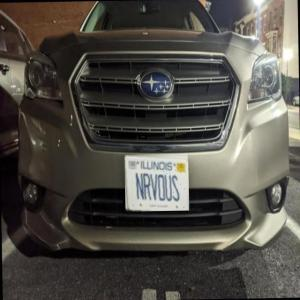Plate: (124, 154, 192, 211)
